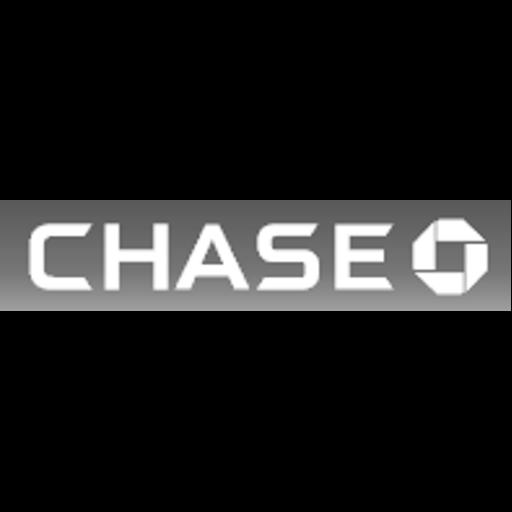Chase Personal Banking: (0, 200, 511, 311)
